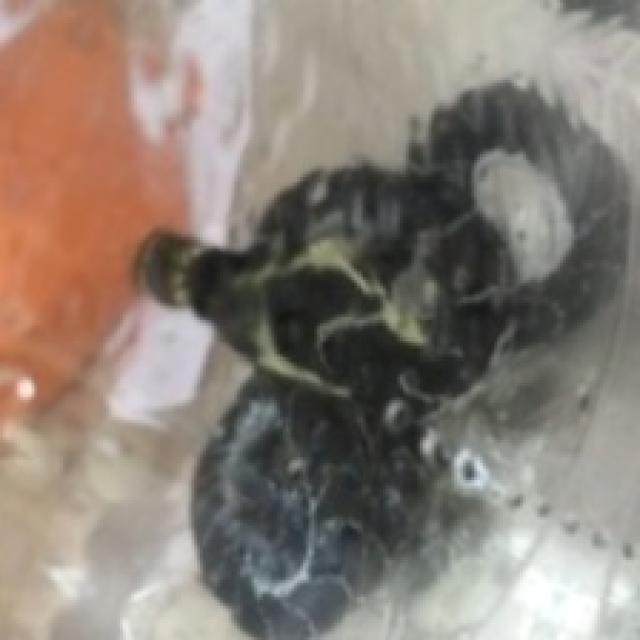king cobra: (137, 83, 626, 637)
